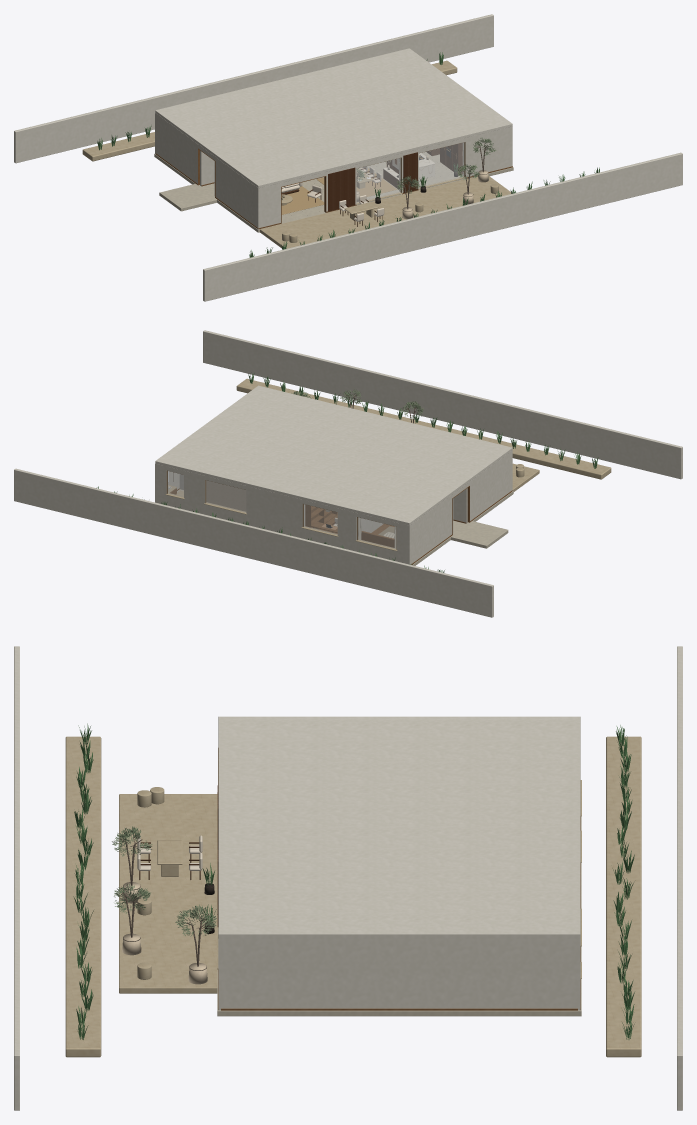
File: premium-home.glb
The picture shows the model from 3 angles, top to bottom: view 1: azimuth 30°, elevation 25°; view 2: azimuth 150°, elevation 25°; view 3: azimuth 270°, elevation 25°; orthographic projection. The views are drawn at different scales.
Visible parts, largest first — view 1: PremiumHome_Opaque, PremiumHome_Glass, PremiumHome_Foliage; view 2: PremiumHome_Opaque, PremiumHome_Glass, PremiumHome_Foliage; view 3: PremiumHome_Opaque, PremiumHome_Foliage.
Boxes of the visible parts, x1,y1,x2,y2 form: PremiumHome_Opaque: (14,14,682,301); PremiumHome_Glass: (357,142,464,202); PremiumHome_Foliage: (97,52,599,257); PremiumHome_Opaque: (14,330,682,617); PremiumHome_Glass: (168,471,396,549); PremiumHome_Foliage: (96,373,598,572); PremiumHome_Opaque: (14,646,682,1110); PremiumHome_Foliage: (73,723,634,1039).
Size of the model in its own units: 38 by 3.56 by 26.24.
40 materials, 21 textured.
